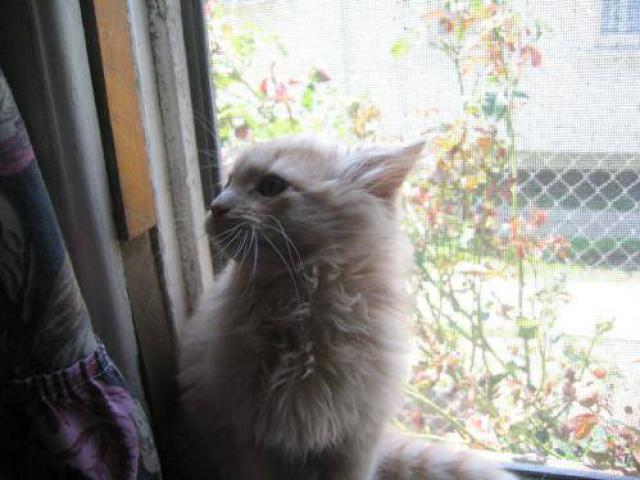cat: (172, 119, 428, 480)
